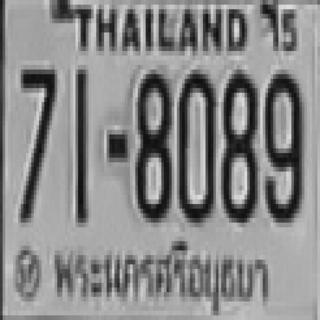N00: (175, 65, 220, 235)
N01: (61, 58, 96, 233)
N07: (12, 54, 57, 231)
N08: (131, 67, 176, 234), (220, 61, 257, 242)
N09: (256, 60, 305, 238)
P03: (45, 240, 284, 320)
